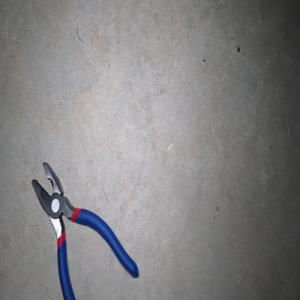Pliers: (31, 161, 138, 300)
